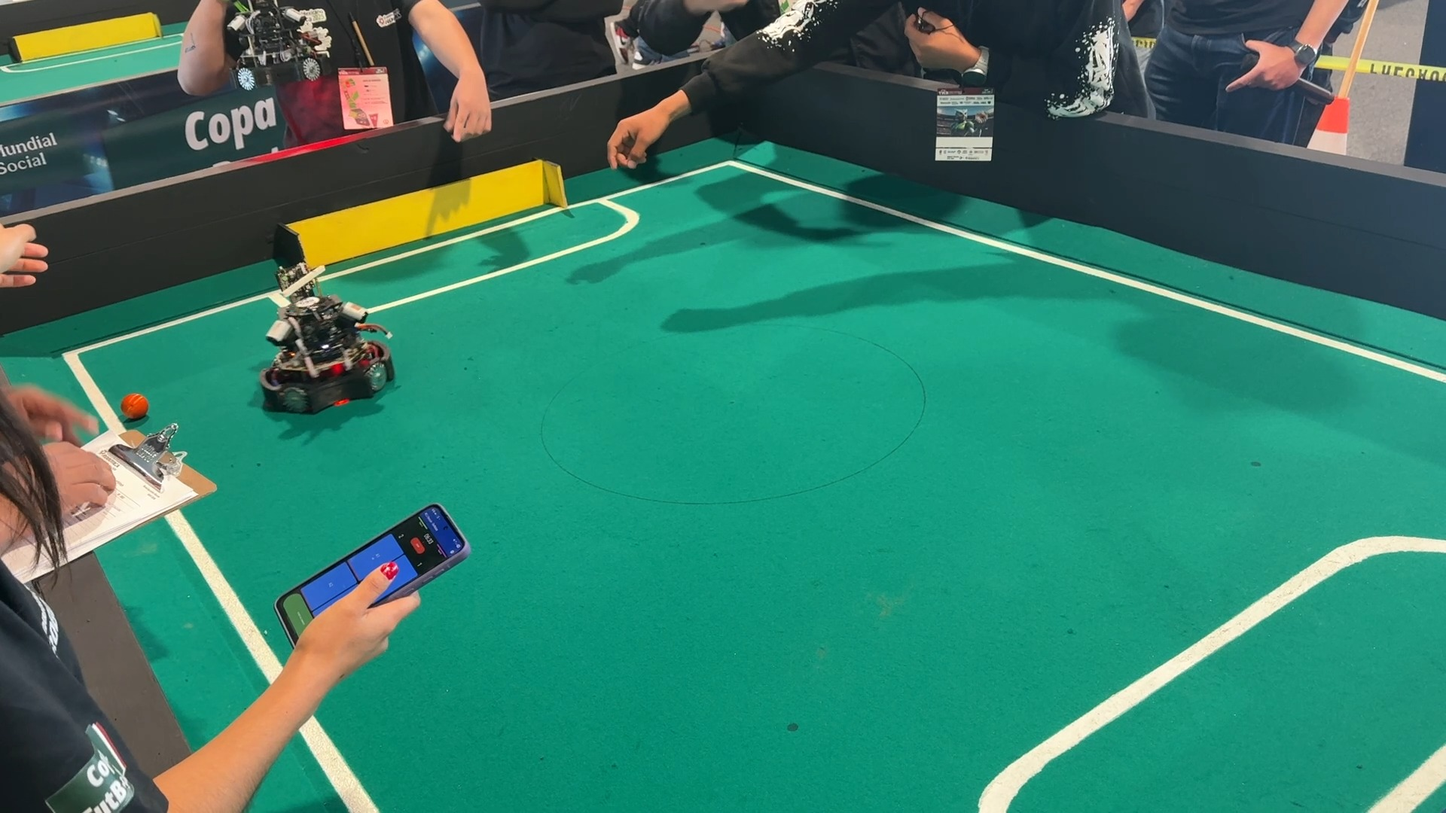Robot: (244, 255, 411, 431), (220, 0, 342, 98)
pelota: (118, 386, 161, 427)
